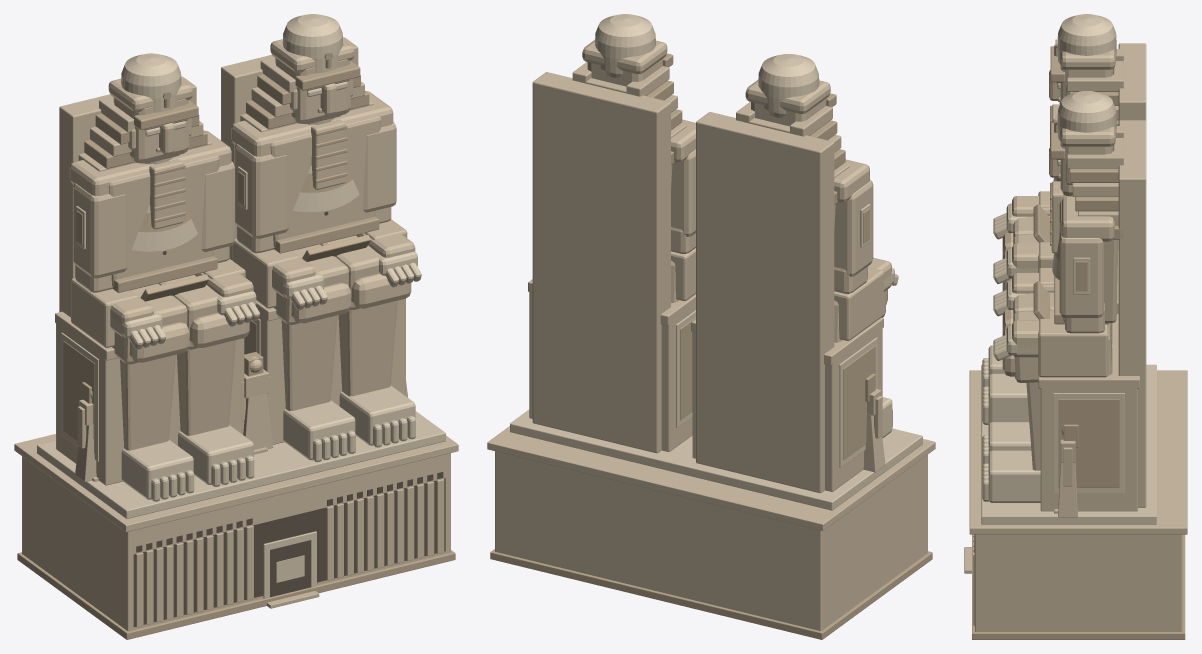
Rendered from egyptian-court-colossi.glb.
The picture shows the model from 3 angles, left to right: view 1: azimuth 30°, elevation 25°; view 2: azimuth 150°, elevation 25°; view 3: azimuth 270°, elevation 25°; orthographic projection. The views are drawn at different scales.
Parts seen in each view (by area): view 1: PED_Block, PED_SlotBack, PED_Plinth, PED_Cornice, L_Torso, R_Torso, R_Shin1, L_Shin1, R_Shin-1, L_Shin-1, L_Cheek-1, L_BackSlab (+68 smaller); view 2: PED_Block, R_BackSlab, L_BackSlab, PED_Plinth, PED_Cornice, PED_BaseCourse, L_Cheek-1, L_UpperArm-1, L_Crown, R_Crown, R_Cheek-1, L_PanelInner-1 (+16 smaller); view 3: PED_Block, PED_Cornice, R_BackSlab, R_Cheek1, PED_Plinth, R_PanelInner1, R_KiltSide1, R_UpperArm1, R_Foot1, PED_BaseCourse, R_Crown, L_Crown (+36 smaller).
Part boxes in pixels (left/top/right/bottom): PED_Block: left=22, top=441, right=450, bottom=631; PED_SlotBack: left=133, top=478, right=445, bottom=627; PED_Plinth: left=37, top=411, right=445, bottom=518; PED_Cornice: left=14, top=434, right=458, bottom=532; L_Torso: left=109, top=156, right=219, bottom=286; R_Torso: left=270, top=116, right=381, bottom=247; R_Shin1: left=338, top=300, right=397, bottom=396; L_Shin1: left=177, top=340, right=235, bottom=435; R_Shin-1: left=281, top=315, right=337, bottom=410; L_Shin-1: left=120, top=354, right=175, bottom=450; L_Cheek-1: left=56, top=312, right=123, bottom=485; L_BackSlab: left=59, top=76, right=196, bottom=317; PED_Block: left=495, top=431, right=927, bottom=630; R_BackSlab: left=532, top=72, right=670, bottom=453; L_BackSlab: left=696, top=112, right=834, bottom=493; PED_Plinth: left=510, top=409, right=922, bottom=510; PED_Cornice: left=487, top=426, right=935, bottom=530; PED_BaseCourse: left=490, top=549, right=932, bottom=639; L_Cheek-1: left=825, top=320, right=882, bottom=491; L_UpperArm-1: left=834, top=180, right=873, bottom=276; L_Crown: left=758, top=54, right=819, bottom=117; R_Crown: left=595, top=14, right=655, bottom=77; R_Cheek-1: left=661, top=294, right=695, bottom=451; L_PanelInner-1: left=843, top=346, right=875, bottom=459; PED_Block: left=975, top=374, right=1182, bottom=631; PED_Cornice: left=969, top=370, right=1187, bottom=534; R_BackSlab: left=1118, top=120, right=1146, bottom=507; R_Cheek1: left=1040, top=370, right=1137, bottom=511; PED_Plinth: left=981, top=364, right=1156, bottom=524; R_PanelInner1: left=1058, top=399, right=1119, bottom=487; R_KiltSide1: left=1038, top=319, right=1108, bottom=377; R_UpperArm1: left=1059, top=229, right=1103, bottom=317; R_Foot1: left=988, top=450, right=1040, bottom=502; PED_BaseCourse: left=972, top=534, right=1185, bottom=639; R_Crown: left=1057, top=91, right=1116, bottom=140; L_Crown: left=1057, top=14, right=1116, bottom=64.
Size of the model in its own units: 17.7 by 26.35 by 10.55.
